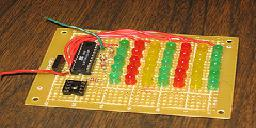LED: (109, 39, 128, 86), (145, 40, 159, 89), (129, 39, 144, 83)
